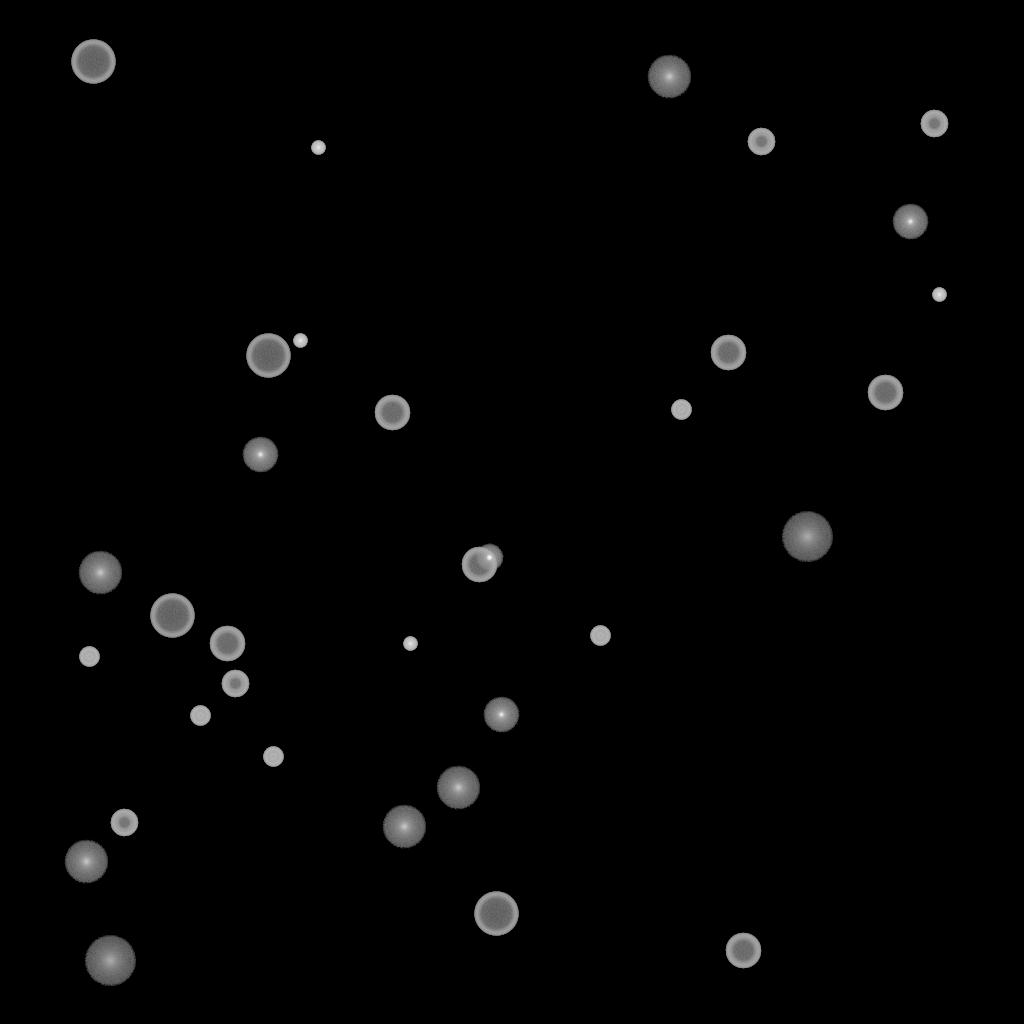depth:-10: (475, 544, 503, 572)
depth:-30: (932, 288, 946, 302), (403, 637, 417, 651), (311, 141, 325, 155), (293, 334, 307, 348)
depth:-40: (190, 706, 210, 726), (263, 747, 283, 767), (79, 647, 99, 667), (671, 400, 691, 420), (590, 626, 610, 646)
depth:-50: (747, 128, 775, 156), (110, 809, 138, 837), (221, 670, 249, 698), (920, 110, 948, 138)
depth:-60: (710, 335, 746, 371), (374, 395, 410, 431), (209, 626, 245, 662), (725, 933, 761, 969), (461, 547, 497, 583), (867, 375, 903, 411)
depth:-70: (71, 40, 115, 84), (474, 892, 518, 936), (150, 594, 194, 638), (246, 334, 290, 378)
depth:0: (483, 697, 519, 733), (242, 437, 278, 473), (892, 204, 928, 240)
depth:10: (78, 551, 122, 595), (64, 840, 108, 884), (647, 55, 691, 99), (382, 805, 426, 849), (436, 766, 480, 810)
depth:20: (84, 936, 136, 986), (781, 512, 833, 562)
